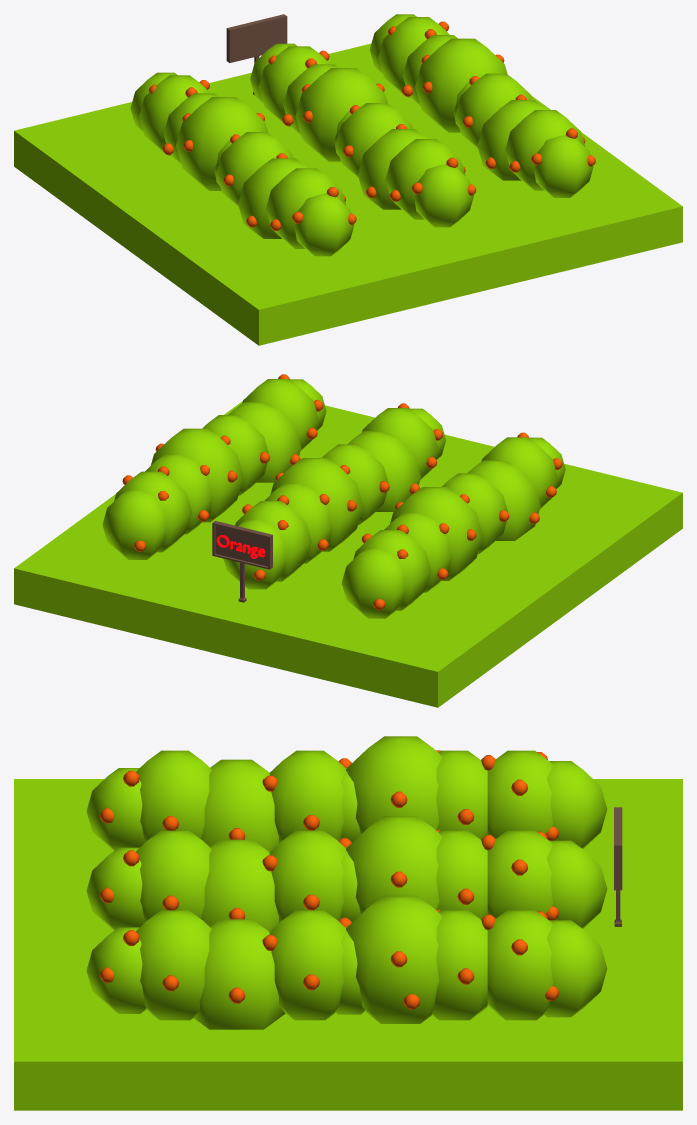
The model's file is Orange_A.fbx.
3 renders of one model, top to bottom at view 1: azimuth 30°, elevation 25°; view 2: azimuth 150°, elevation 25°; view 3: azimuth 270°, elevation 25°, orthographic. The views are drawn at different scales.
Parts seen in each view (by area): view 1: Cube.034, Plane.012, Cube.064; view 2: Cube.034, Plane.012, Cube.064; view 3: Plane.012, Cube.034, Cube.064.
Part boxes in pixels (x1,y1,x2,y2): Cube.034: (14, 43, 682, 345); Plane.012: (130, 14, 595, 256); Cube.064: (226, 14, 287, 95); Cube.034: (14, 401, 682, 707); Plane.012: (102, 374, 565, 618); Cube.064: (212, 521, 272, 602); Plane.012: (86, 736, 607, 1029); Cube.034: (14, 779, 682, 1110); Cube.064: (614, 807, 622, 926).
Bounding box in the file's own units: 2690 × 706 × 2690.
